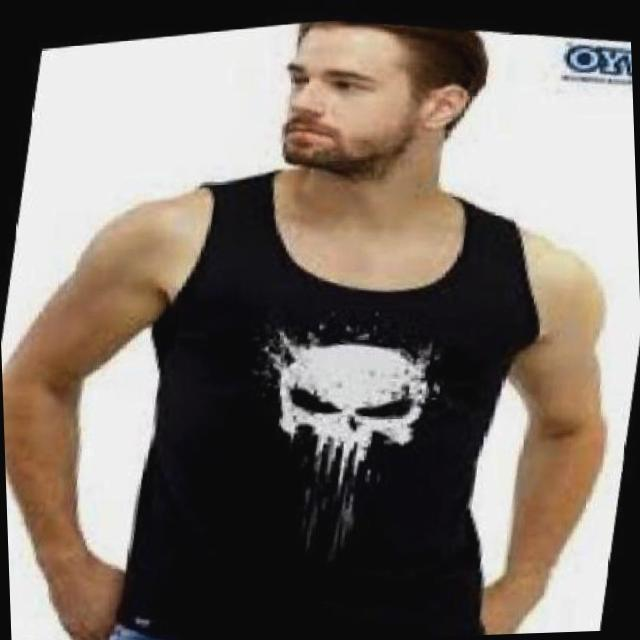no_vest: (91, 117, 568, 640)
